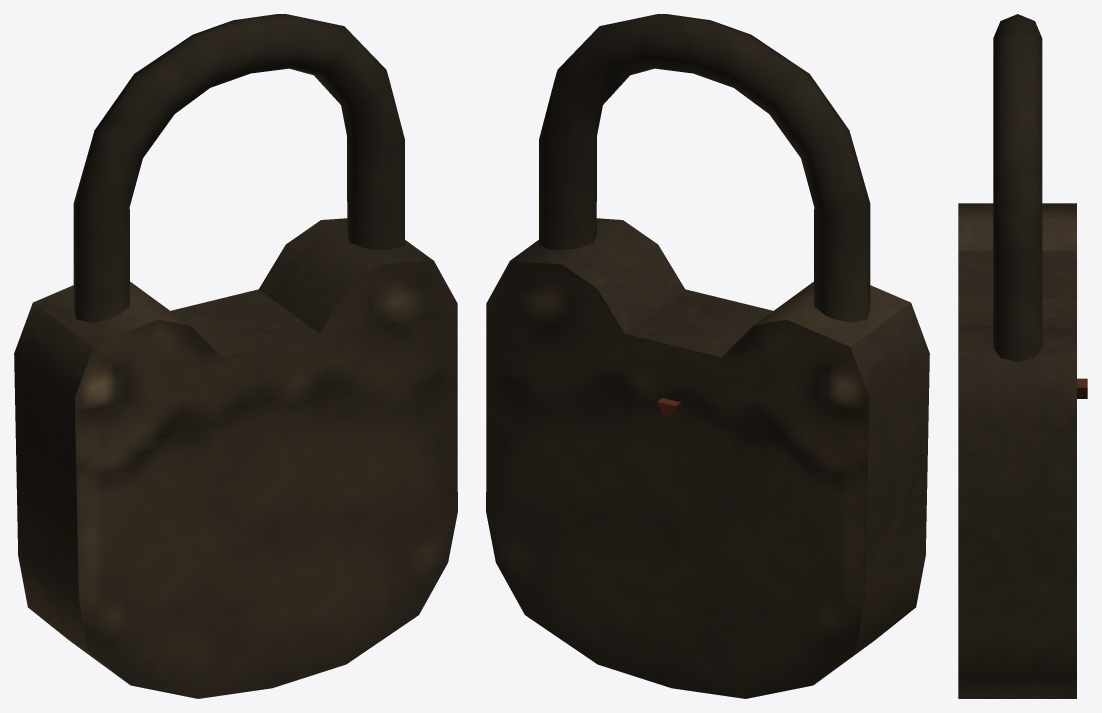
File: padlock_3.obj
3 renders of one model, left to right at view 1: azimuth 30°, elevation 25°; view 2: azimuth 150°, elevation 25°; view 3: azimuth 270°, elevation 25°, orthographic. The views are drawn at different scales.
Parts seen in each view (by area): view 1: padlock_3, padlock_3_shackle; view 2: padlock_3, padlock_3_shackle; view 3: padlock_3, padlock_3_shackle.
Part boxes in pixels (x1=…): padlock_3: x1=14, y1=218, x2=457, y2=698; padlock_3_shackle: x1=73, y1=14, x2=404, y2=322; padlock_3: x1=486, y1=218, x2=929, y2=698; padlock_3_shackle: x1=539, y1=14, x2=870, y2=322; padlock_3: x1=958, y1=203, x2=1087, y2=698; padlock_3_shackle: x1=993, y1=14, x2=1042, y2=361.
Size of the model in its own units: 0.0806 by 0.1299 by 0.0241.
